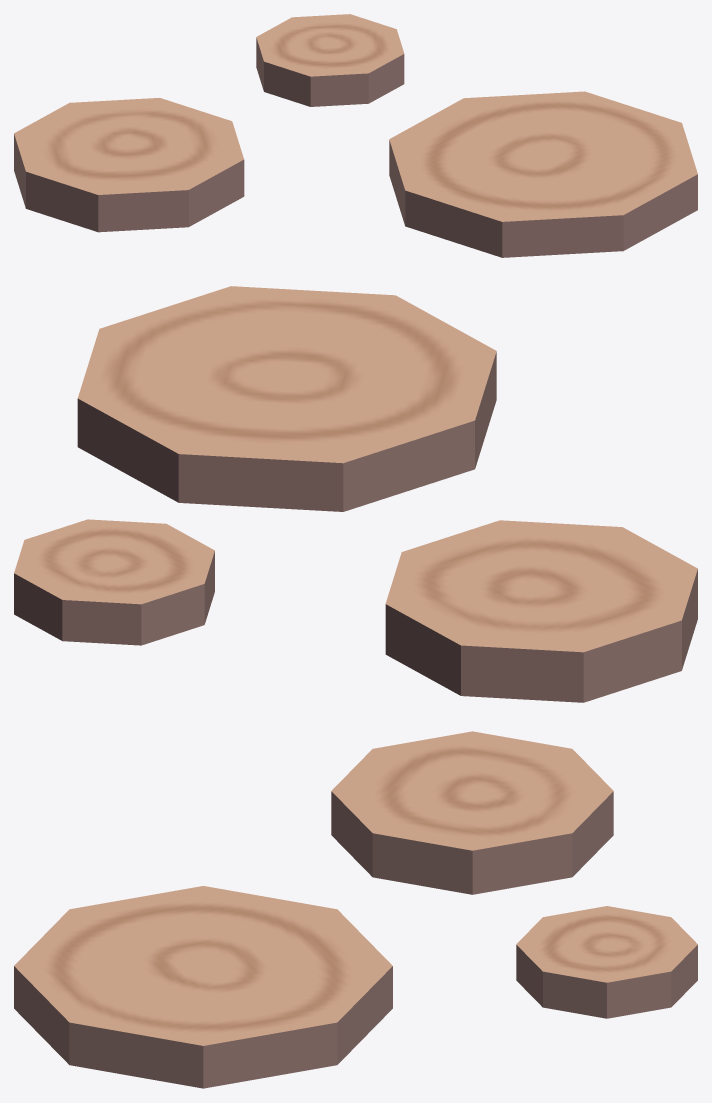
File: bond_circlesteps.fbx
3 renders of one model, top to bottom at view 1: azimuth 30°, elevation 25°; view 2: azimuth 150°, elevation 25°; view 3: azimuth 270°, elevation 25°, orthographic. The views are drawn at different scales.
Parts seen in each view (by area): view 1: Props_steps2; view 2: Props_steps2; view 3: Props_steps2.
Part boxes in pixels (x1,y1,x2,y2): Props_steps2: (14,14,697,257); Props_steps2: (14,286,697,702); Props_steps2: (14,731,697,1088).
Bounding box in the file's own units: 130 × 8.51 × 120.
